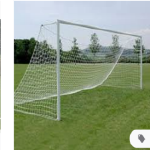goals: (13, 19, 143, 122)
